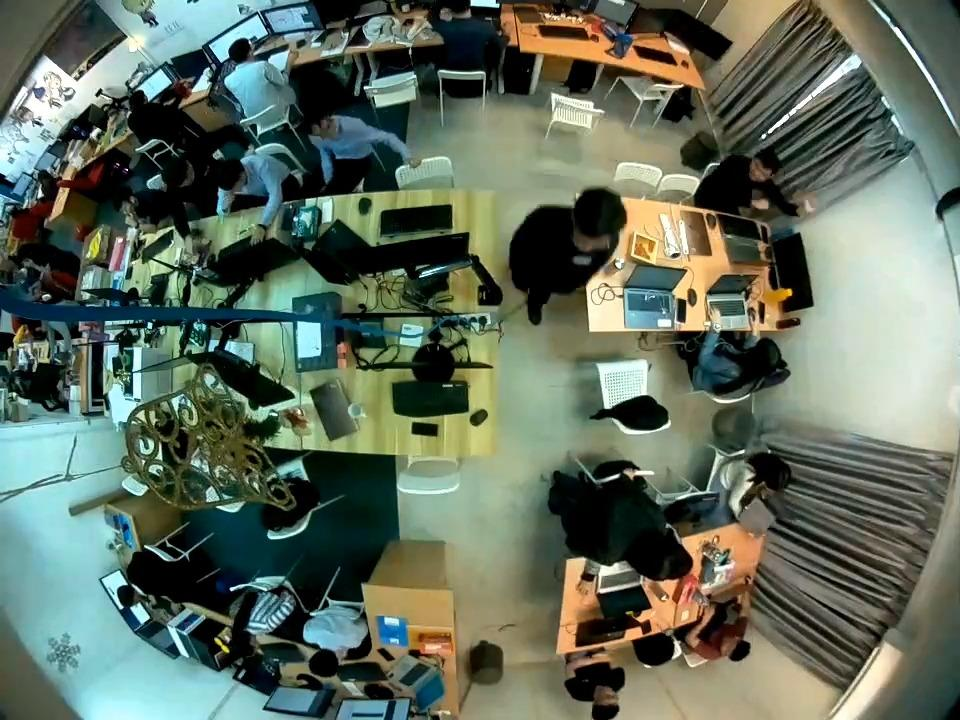name-tag: (570, 252, 593, 267)
